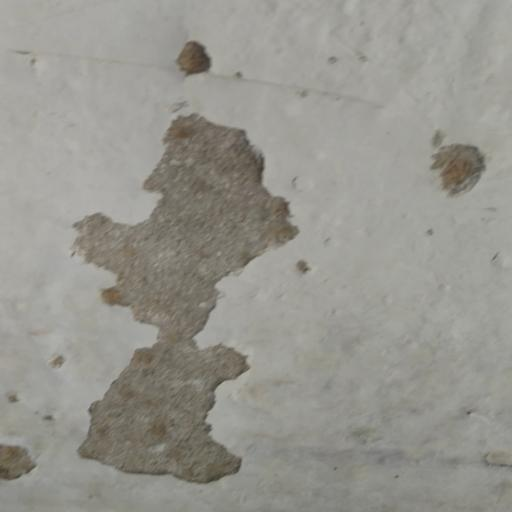peeling: (56, 95, 322, 498), (422, 123, 502, 204), (172, 35, 224, 85), (0, 431, 48, 482)
